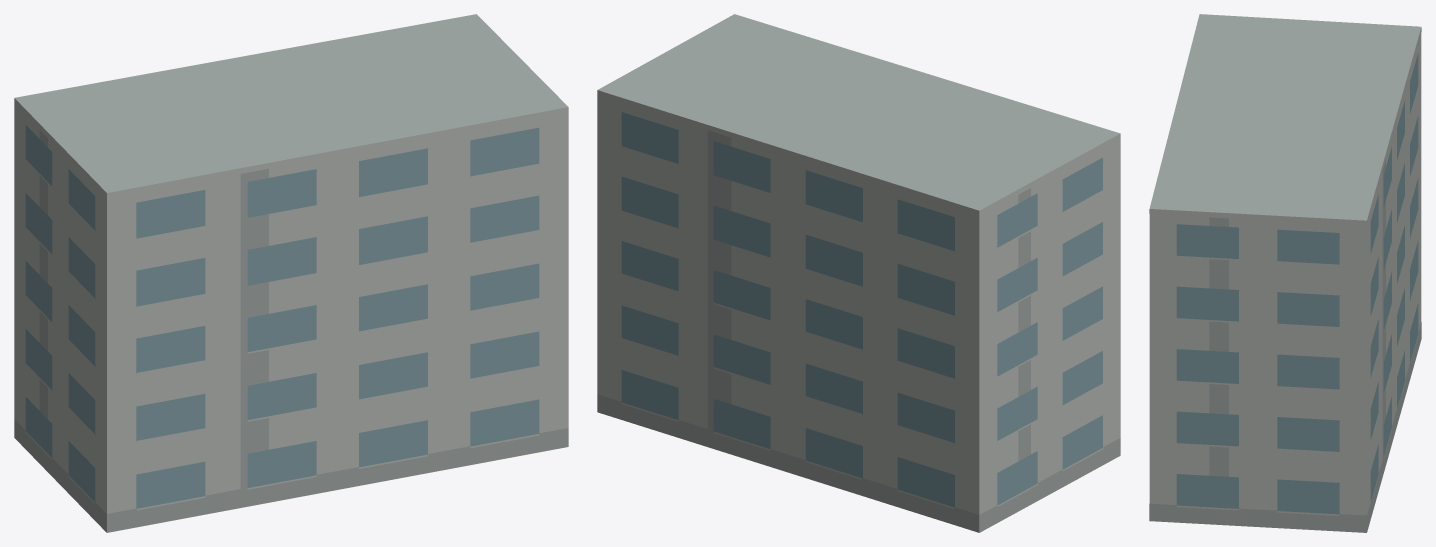
File: survey-upis-32886568.glb
3 views of the same model, side by side, from view 1: azimuth 30°, elevation 25°; view 2: azimuth 150°, elevation 25°; view 3: azimuth 270°, elevation 25° (orthographic). The views are drawn at different scales.
Parts seen in each view (by area): view 1: survey-upis-32886568.tmp; view 2: survey-upis-32886568.tmp; view 3: survey-upis-32886568.tmp.
Part boxes in pixels (box(x1,y1,x2,y2)): survey-upis-32886568.tmp: box(14, 14, 568, 532); survey-upis-32886568.tmp: box(597, 14, 1120, 532); survey-upis-32886568.tmp: box(1149, 14, 1421, 532).
Size of the model in its own units: 20.59 by 14.5 by 11.46.
